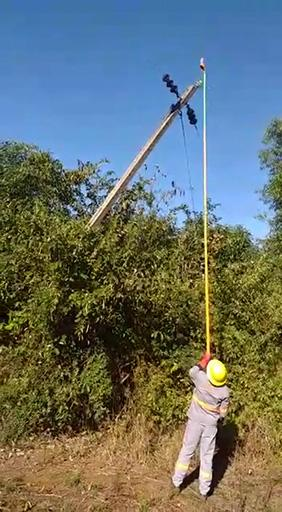Detector_Tensao_Contato: (198, 56, 206, 70)
Vara_Manobra: (201, 71, 210, 366)
